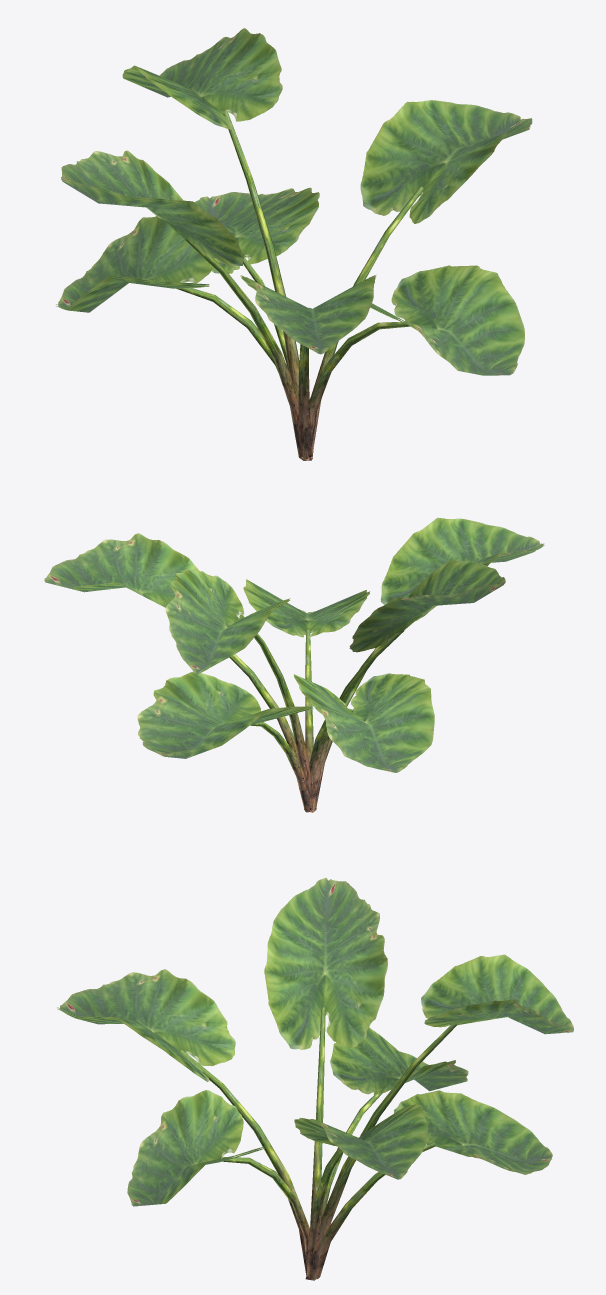
The model's file is jungle_bush01.obj.
3 views of the same model, one above another, from view 1: azimuth 30°, elevation 25°; view 2: azimuth 150°, elevation 25°; view 3: azimuth 270°, elevation 25° (orthographic). The views are drawn at different scales.
Visible parts, largest first — view 1: jungle_bush01; view 2: jungle_bush01; view 3: jungle_bush01.
Boxes of the visible parts, x1,y1,x2,y2 form: jungle_bush01: (56, 28, 532, 460); jungle_bush01: (44, 517, 544, 812); jungle_bush01: (57, 877, 573, 1280).
Size of the model in its own units: 219 by 143 by 224.
Materials: 1 (1 with a texture image).
